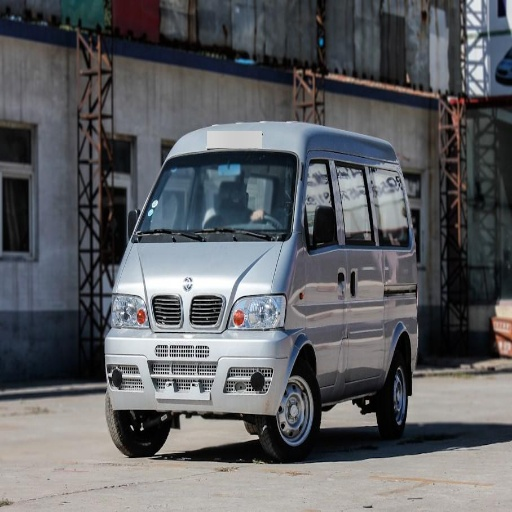front_bumper: (108, 278, 293, 413)
front_glass: (134, 151, 297, 241)
front_left_door: (304, 158, 350, 387)
trunk: (378, 253, 417, 353)
